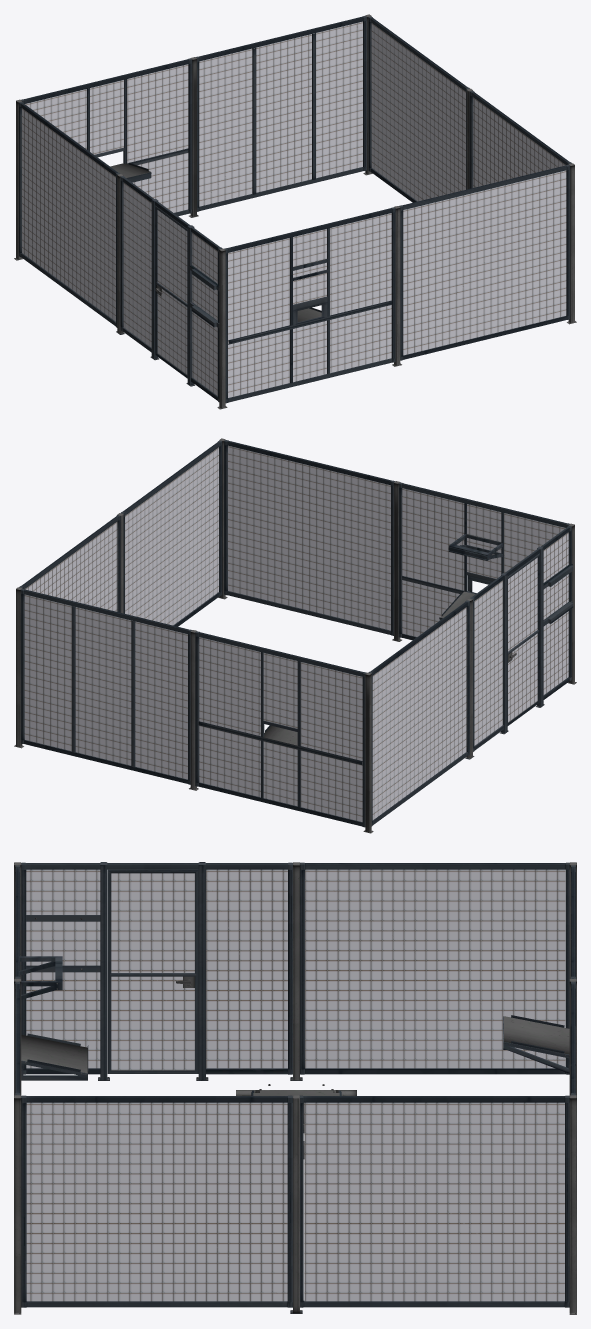
File: Fence.FBX
3 views of the same model, one above another, from view 1: azimuth 30°, elevation 25°; view 2: azimuth 150°, elevation 25°; view 3: azimuth 270°, elevation 25° (orthographic). The views are drawn at different scales.
Visible parts, largest first — view 1: FenceGrid, Fence; view 2: FenceGrid, Fence; view 3: FenceGrid, Fence.
Boxes of the visible parts, <box> form: FenceGrid: <box>22,21,566,397</box>; Fence: <box>14,14,576,409</box>; FenceGrid: <box>24,445,568,821</box>; Fence: <box>14,438,576,833</box>; FenceGrid: <box>26,869,565,1301</box>; Fence: <box>14,862,576,1314</box>.
Bounding box in the file's own units: 5.63 × 2.37 × 5.61.
2 materials, 2 textured.
